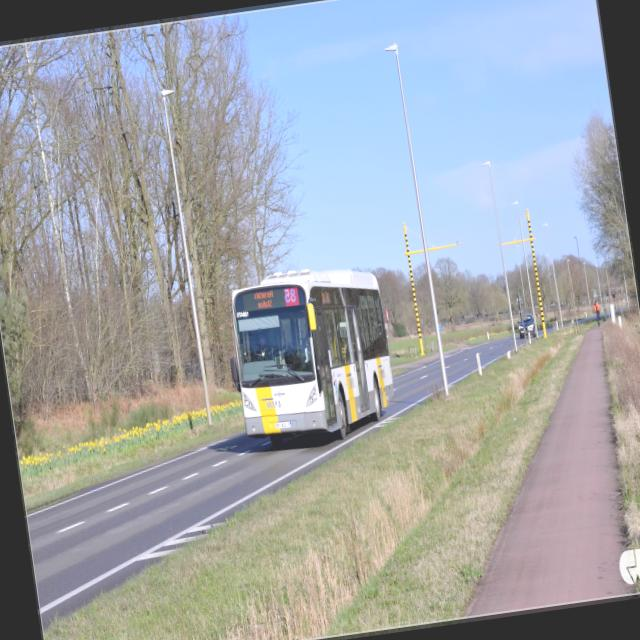bus-number: (284, 286, 300, 306)
